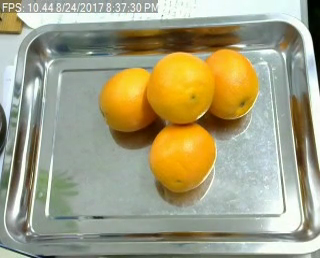Orange: (148, 120, 215, 194), (147, 51, 213, 123), (98, 66, 157, 131), (205, 49, 259, 119)
